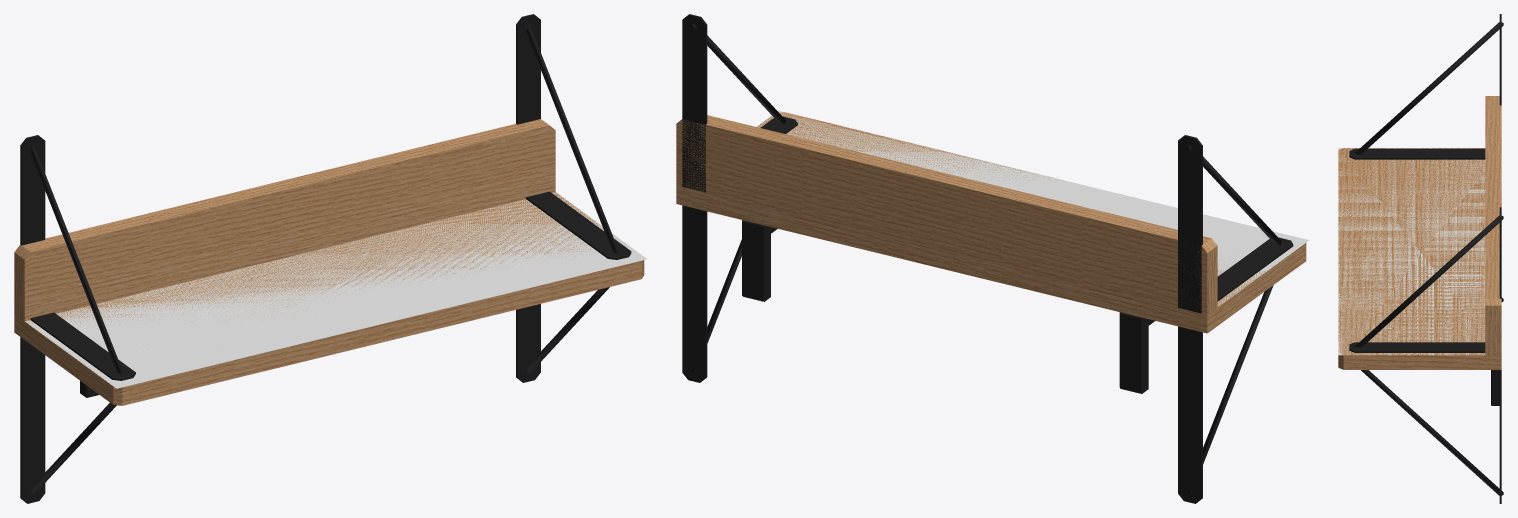
File: wall-shelf.glb
3 views of the same model, side by side, from view 1: azimuth 30°, elevation 25°; view 2: azimuth 150°, elevation 25°; view 3: azimuth 270°, elevation 25° (orthographic). The views are drawn at different scales.
Parts seen in each view (by area): view 1: __TOP__board, __X_VARIATION_D__and__X_BODY__board2, __X_BODY__board, __X_VARIATION_B__a, __X_VARIATION_C__a.001, __X_VARIATION_B__b, __X_VARIATION_C__b.001; view 2: __X_VARIATION_D__and__X_BODY__board2, __X_BODY__board, __TOP__board, __X_VARIATION_B__a, __X_VARIATION_C__a.001, __X_VARIATION_A__a, __X_VARIATION_C__b.001, __X_VARIATION_B__b; view 3: __X_BODY__board, __TOP__board, __X_VARIATION_D__and__X_BODY__board2, __X_VARIATION_B__a, __X_VARIATION_B__b, __X_VARIATION_C__b.001, __X_VARIATION_C__a.001, __X_VARIATION_A__a.
Part boxes in pixels (x1,y1,x2,y2): __TOP__board: (25,192,646,388); __X_VARIATION_D__and__X_BODY__board2: (14,119,555,321); __X_BODY__board: (14,192,644,405); __X_VARIATION_B__a: (20,14,631,380); __X_VARIATION_C__a.001: (20,304,540,503); __X_VARIATION_B__b: (30,24,619,374); __X_VARIATION_C__b.001: (30,287,609,495); __X_VARIATION_D__and__X_BODY__board2: (676,115,1217,314); __X_BODY__board: (676,112,1306,333); __TOP__board: (757,110,1309,306); __X_VARIATION_B__a: (682,14,1293,313); __X_VARIATION_C__a.001: (682,205,1202,503); __X_VARIATION_A__a: (742,220,1154,393); __X_VARIATION_C__b.001: (690,239,1273,494); __X_VARIATION_B__b: (690,24,1281,245); __X_BODY__board: (1338,148,1501,369); __TOP__board: (1338,148,1485,355); __X_VARIATION_D__and__X_BODY__board2: (1485,96,1501,355); __X_VARIATION_B__a: (1349,14,1501,352); __X_VARIATION_B__b: (1354,22,1503,347); __X_VARIATION_C__b.001: (1361,297,1503,495); __X_VARIATION_C__a.001: (1499,370,1501,503); __X_VARIATION_A__a: (1491,370,1499,405).
Size of the model in its own units: 0.45 by 0.2957 by 0.1518.
Materials: 2 (1 with a texture image).
